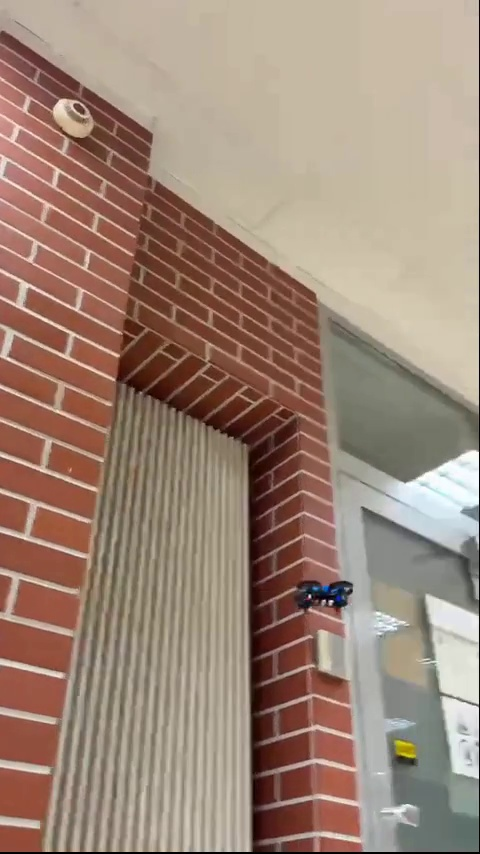drone: (298, 574, 354, 617)
